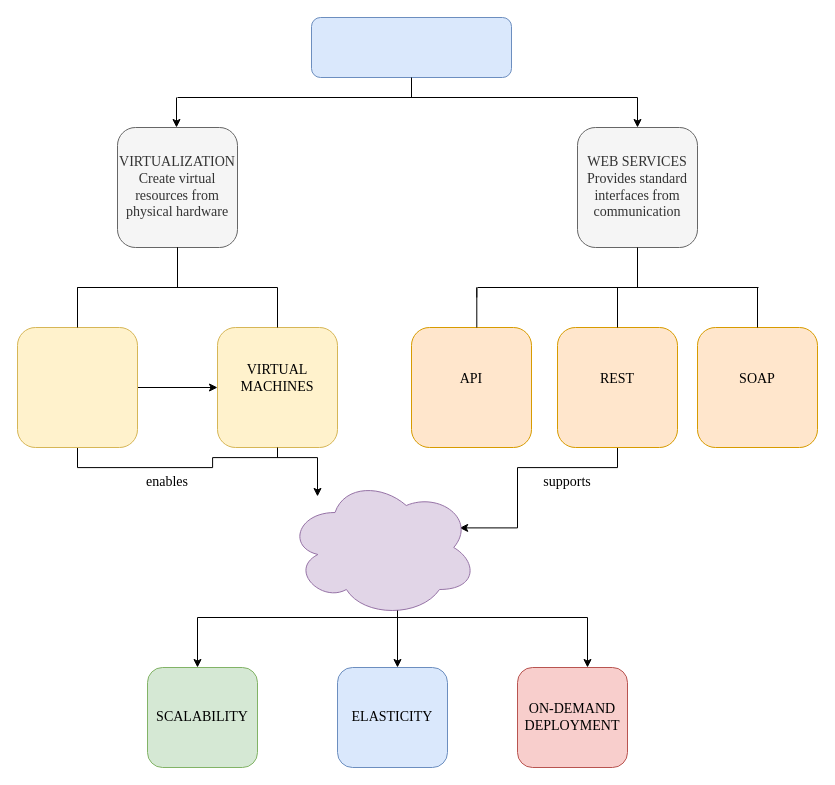
The diagram is 835 pixels wide and 785 high, and some of its shapes have lost their labels. Each missing label, with the box of its shape:
CLOUD COMPUTING: (286, 476, 478, 618)
HYPERVISOR: (16, 326, 138, 448)
VIRTUALIZATION & WEB SERVICES AS ENABLERS OF CLOUD: (310, 16, 512, 78)
